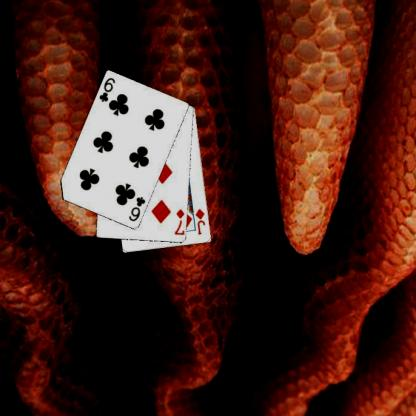6C: (126, 195, 147, 223), (96, 75, 116, 104)
7D: (172, 207, 185, 236)
JD: (193, 206, 206, 236)
